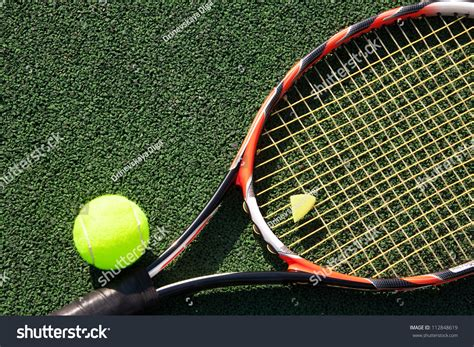tennis_ball: (71, 193, 151, 272)
